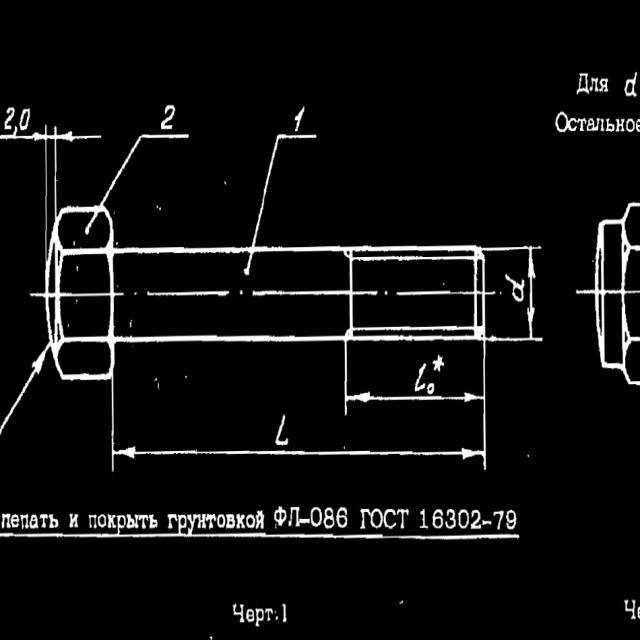marking_line: (109, 381, 490, 470), (342, 345, 492, 419), (250, 134, 318, 245), (2, 130, 48, 251), (488, 246, 544, 342), (0, 341, 48, 433), (52, 125, 103, 204)
numeric: (161, 104, 175, 133), (2, 103, 16, 131), (292, 105, 305, 135), (18, 105, 30, 133), (324, 505, 336, 531), (431, 508, 445, 530), (457, 509, 471, 530), (505, 508, 518, 530), (491, 510, 504, 531), (445, 509, 457, 531), (336, 506, 348, 528), (470, 508, 482, 529), (310, 508, 323, 527), (419, 508, 428, 529), (281, 600, 288, 625), (426, 382, 434, 396)
special_symbol: (433, 353, 446, 375)
